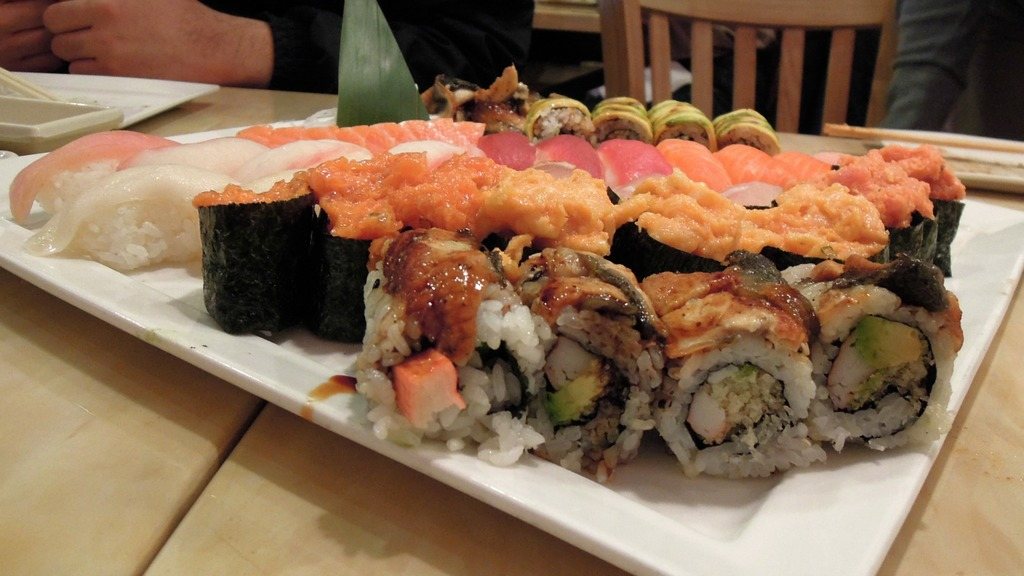sushi: (13, 61, 965, 482), (823, 283, 943, 454)
